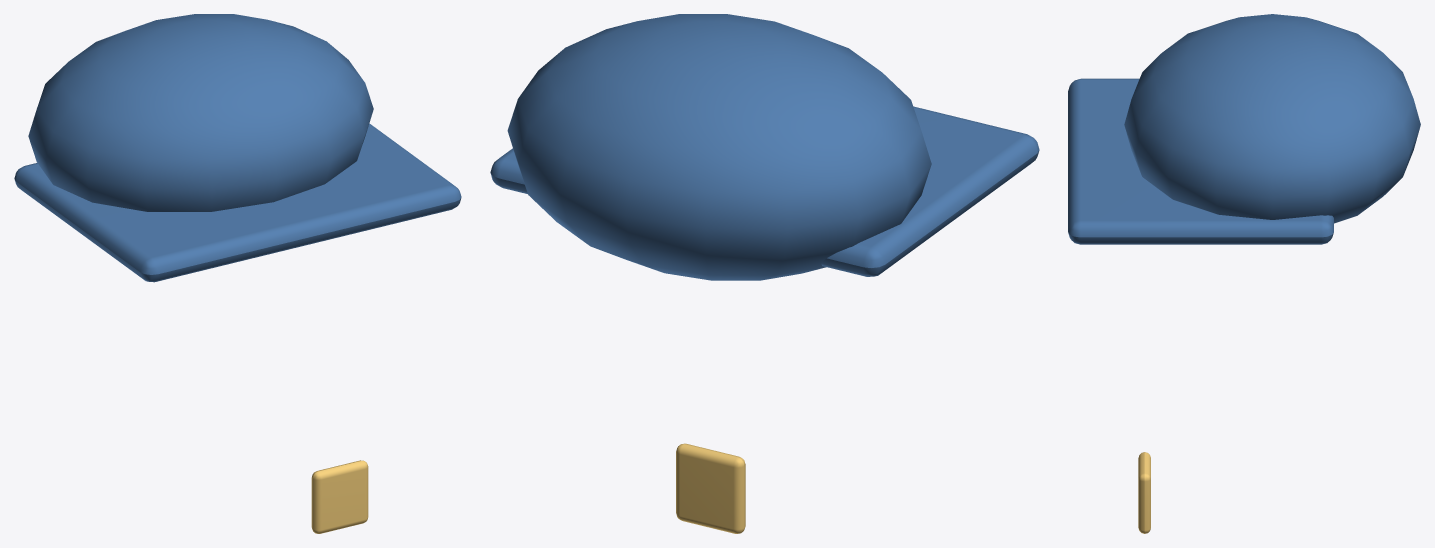
The model's file is police-kit.glb.
3 views of the same model, side by side, from view 1: azimuth 30°, elevation 25°; view 2: azimuth 150°, elevation 25°; view 3: azimuth 270°, elevation 25° (orthographic). The views are drawn at different scales.
Visible parts, largest first — view 1: brim, badge; view 2: brim, badge; view 3: brim, badge.
Part boxes in pixels (bbox=[...]): brim: bbox=[14, 14, 461, 282]; badge: bbox=[311, 460, 368, 533]; brim: bbox=[490, 14, 1039, 280]; badge: bbox=[676, 443, 745, 533]; brim: bbox=[1068, 14, 1420, 244]; badge: bbox=[1138, 452, 1150, 533].
Size of the model in its own units: 0.7 by 0.965 by 0.69.
